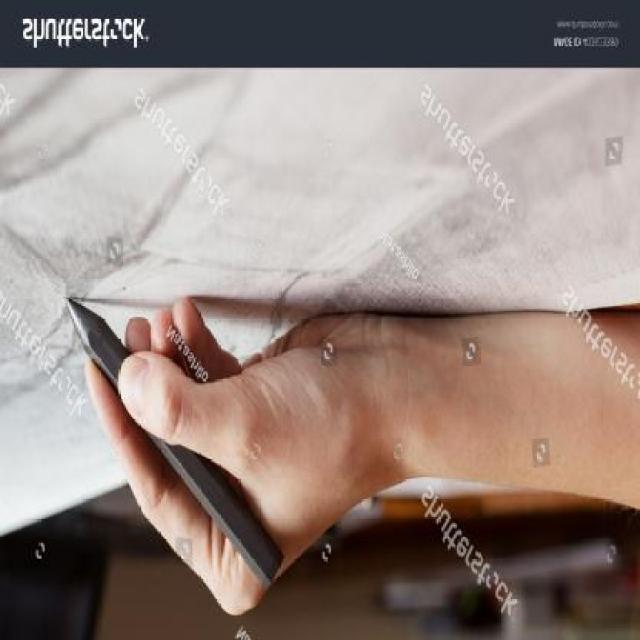pencil: (67, 290, 111, 370)
